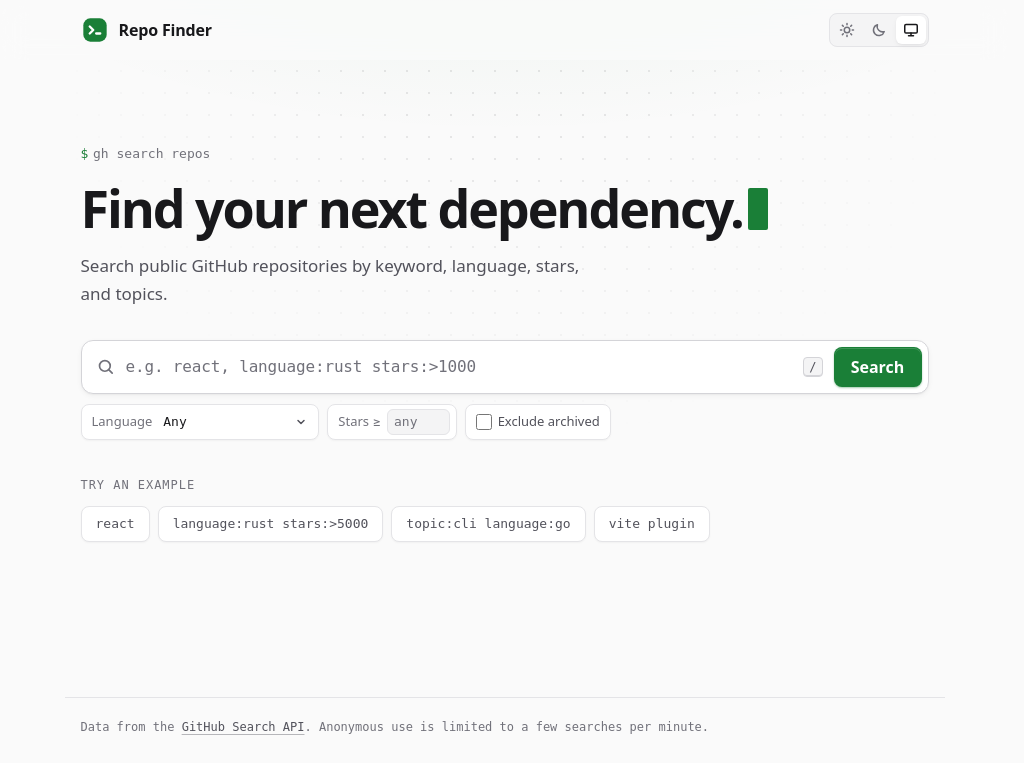
Test: App › searches from the form and shows results
Type "  react  " into the dropdown named "Search repositories" at (504, 367), box x1=80 y1=340 x2=928 y2=394
Then press Enter
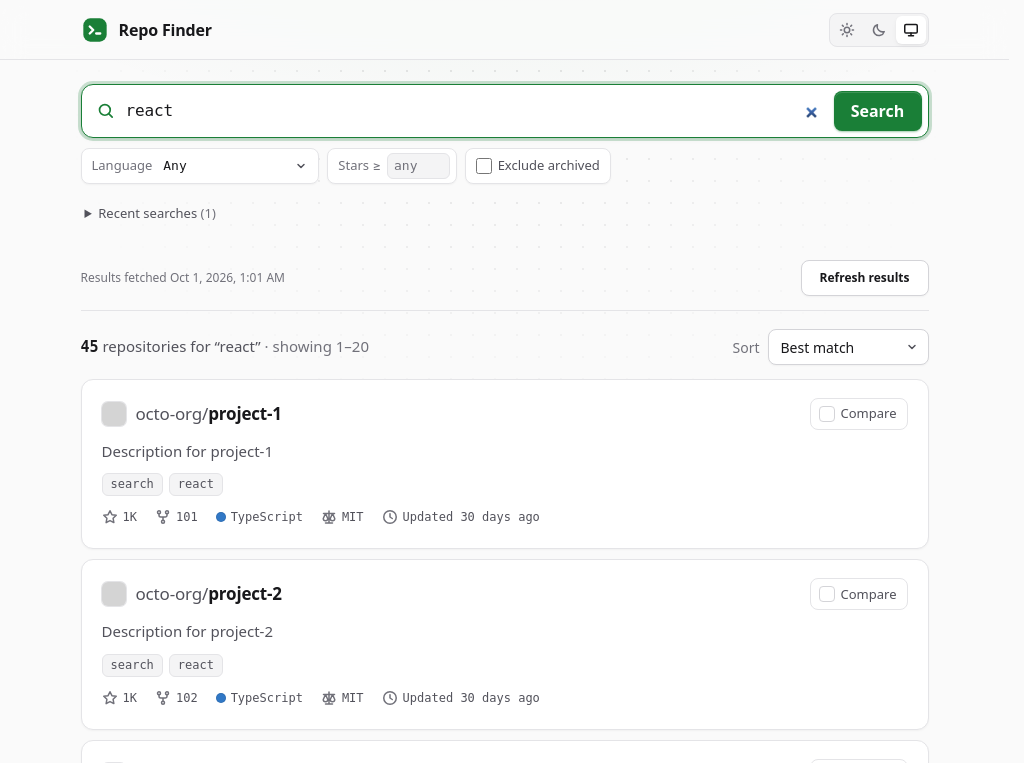
Result: the heading "45 repositories for “react” · showing 1–20" is shown at x1=80 y1=335 x2=369 y2=359
Result: the link "octo-org/project-1" is shown at x1=136 y1=402 x2=282 y2=424
